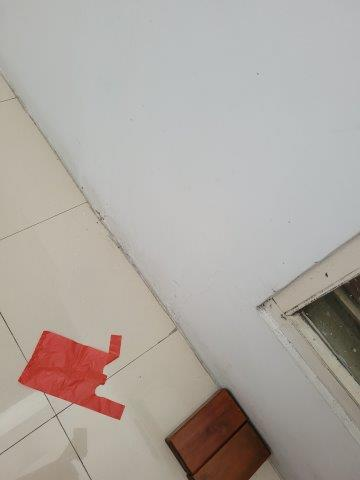plastik: (17, 329, 126, 421)
